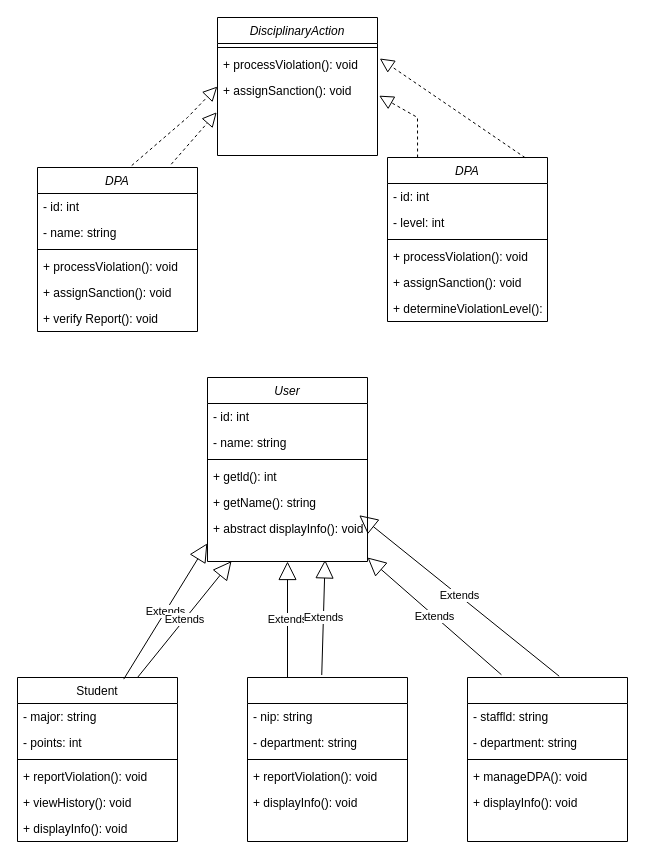
Some shapes in this 645 by 862 pixel diagram are drawn without their labels. Here are the shapes that lost their labels. From the top down, the box of each, then its label:
(246, 676, 408, 842): Lecturer
(466, 676, 628, 842): Admin
